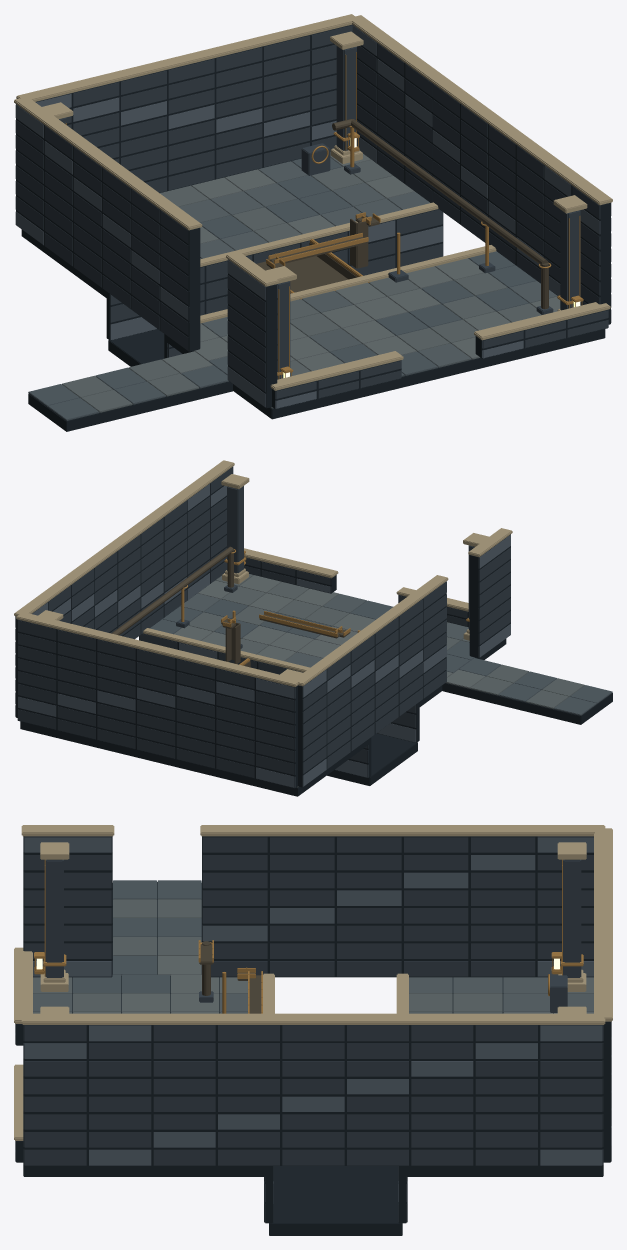
File: foundry-static-v01.glb
3 views of the same model, one above another, from view 1: azimuth 30°, elevation 25°; view 2: azimuth 150°, elevation 25°; view 3: azimuth 270°, elevation 25° (orthographic). The views are drawn at different scales.
Visible parts, largest first — view 1: Foundry Basalt • charcoal, Foundry Recesses and grout, Foundry Ash stone • warm trim, Foundry Basalt • blue grey bevels, Foundry Floor stone 2, Foundry Floor stone 3, Foundry Floor stone 1, Foundry Floor stone 0, Foundry Bronze • aged recess, Foundry Bronze • forged warm; view 2: Foundry Basalt • charcoal, Foundry Recesses and grout, Foundry Ash stone • warm trim, Foundry Basalt • blue grey bevels, Foundry Floor stone 2, Foundry Floor stone 3, Foundry Floor stone 1, Foundry Bronze • aged recess, Foundry Floor stone 0, Foundry Bronze • forged warm; view 3: Foundry Basalt • charcoal, Foundry Recesses and grout, Foundry Ash stone • warm trim, Foundry Basalt • blue grey bevels, Foundry Floor stone 1, Foundry Floor stone 3, Foundry Floor stone 0, Foundry Floor stone 2, Foundry Bronze • forged warm, Foundry Bronze • aged recess.
Boxes of the visible parts, x1,y1,x2,y2 form: Foundry Basalt • charcoal: (15,25,611,398); Foundry Recesses and grout: (16,24,610,431); Foundry Ash stone • warm trim: (14,14,612,390); Foundry Basalt • blue grey bevels: (15,25,611,408); Foundry Floor stone 2: (162,152,560,373); Foundry Floor stone 3: (28,158,536,420); Foundry Floor stone 1: (62,160,541,412); Foundry Floor stone 0: (179,161,557,367); Foundry Bronze • aged recess: (256,119,548,309); Foundry Bronze • forged warm: (65,52,583,379); Foundry Basalt • charcoal: (15,467,510,778); Foundry Recesses and grout: (15,466,612,796); Foundry Ash stone • warm trim: (14,460,512,686); Foundry Basalt • blue grey bevels: (15,484,510,787); Foundry Floor stone 2: (174,575,485,688); Foundry Floor stone 3: (150,599,612,715); Foundry Floor stone 1: (188,574,584,787); Foundry Bronze • aged recess: (111,546,350,667); Foundry Floor stone 0: (180,593,468,667); Foundry Bronze • forged warm: (181,549,469,665); Foundry Basalt • charcoal: (15,836,611,1221); Foundry Recesses and grout: (15,836,611,1235); Foundry Ash stone • warm trim: (14,825,612,1140); Foundry Basalt • blue grey bevels: (23,836,611,1201); Foundry Floor stone 1: (33,899,593,1013); Foundry Floor stone 3: (73,880,201,993); Foundry Floor stone 0: (33,977,593,1013); Foundry Floor stone 2: (73,955,593,1013); Foundry Bronze • forged warm: (34,859,583,1013); Foundry Bronze • aged recess: (199,941,261,1013).
Size of the model in its own units: 30.42 by 10.82 by 26.85.
